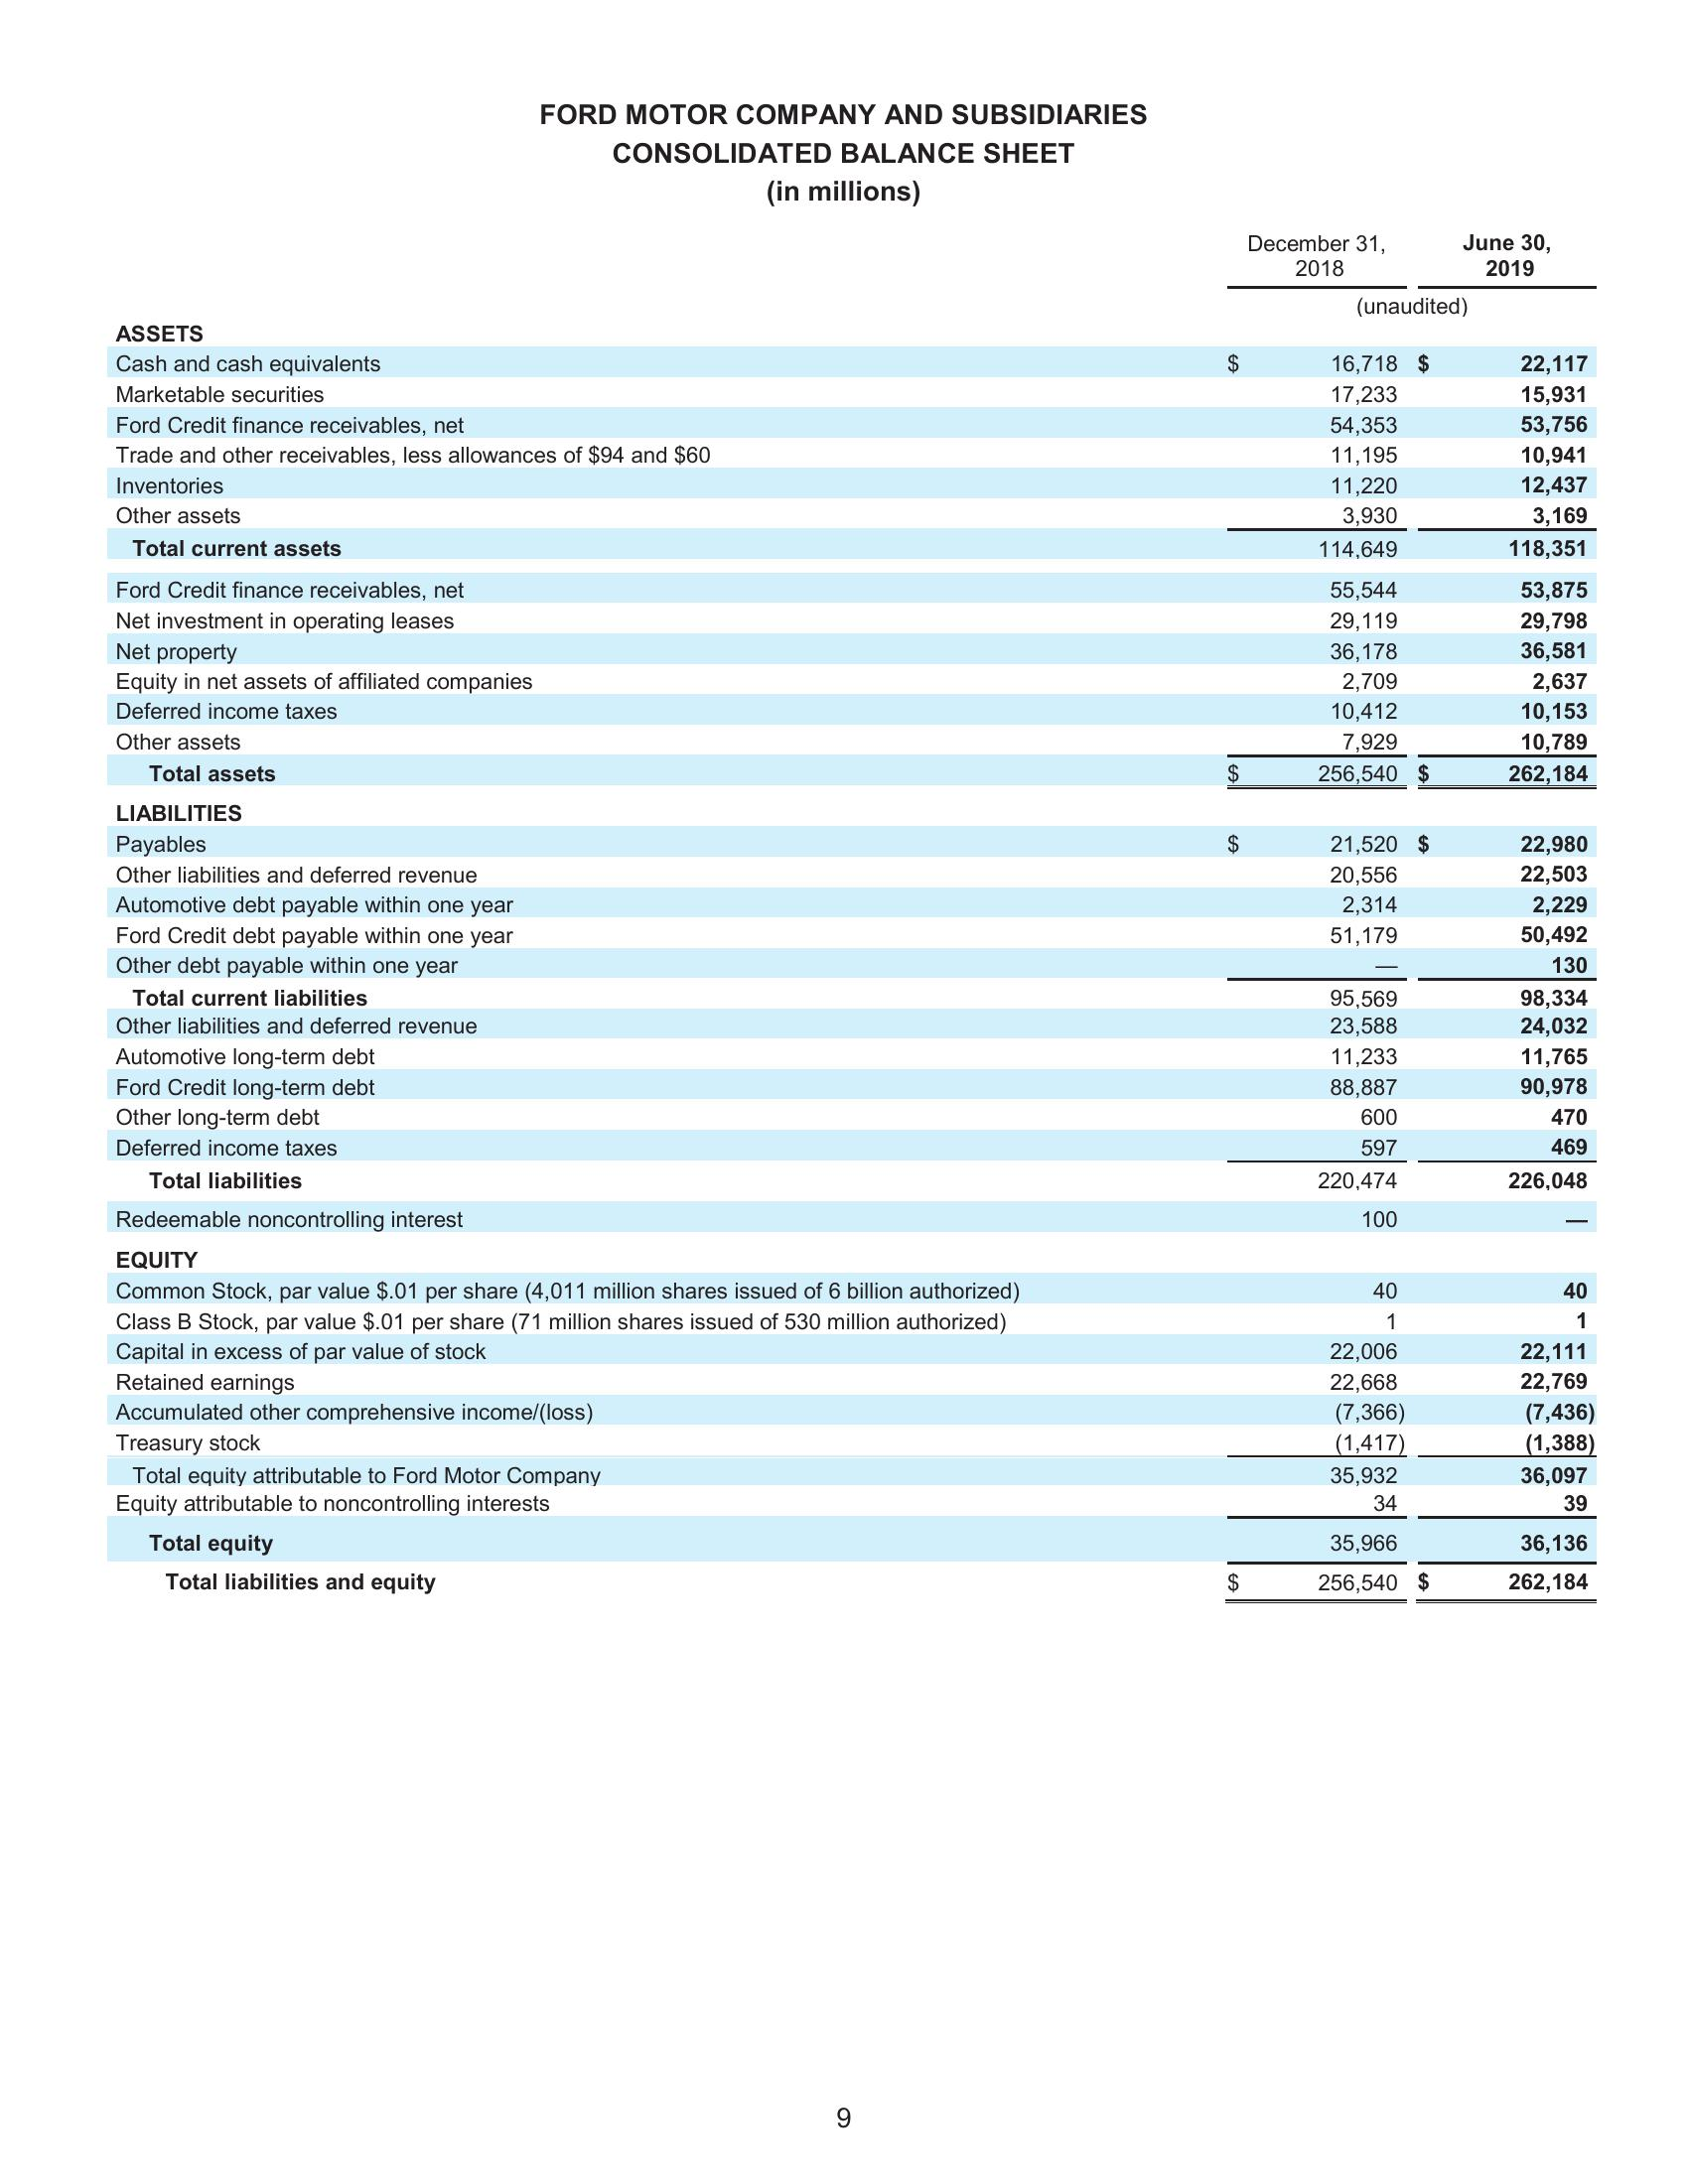table: (103, 220, 1603, 1615)
